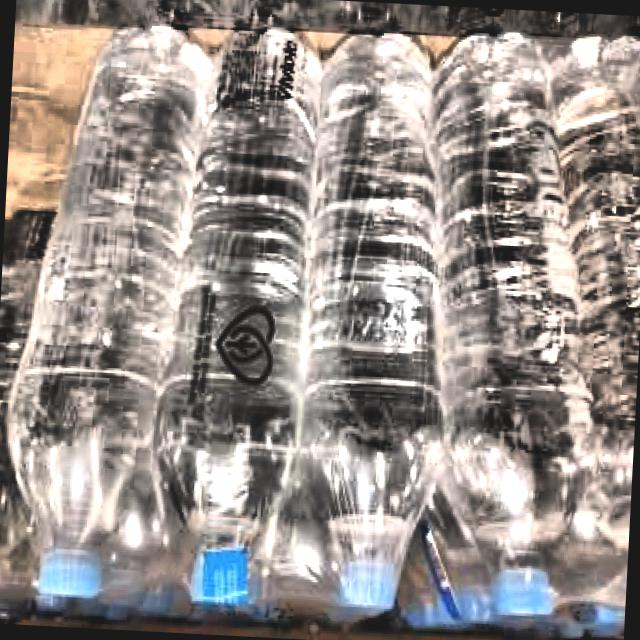plastic bottle: (8, 27, 207, 595), (154, 29, 320, 602), (436, 33, 580, 614), (300, 33, 440, 609)
